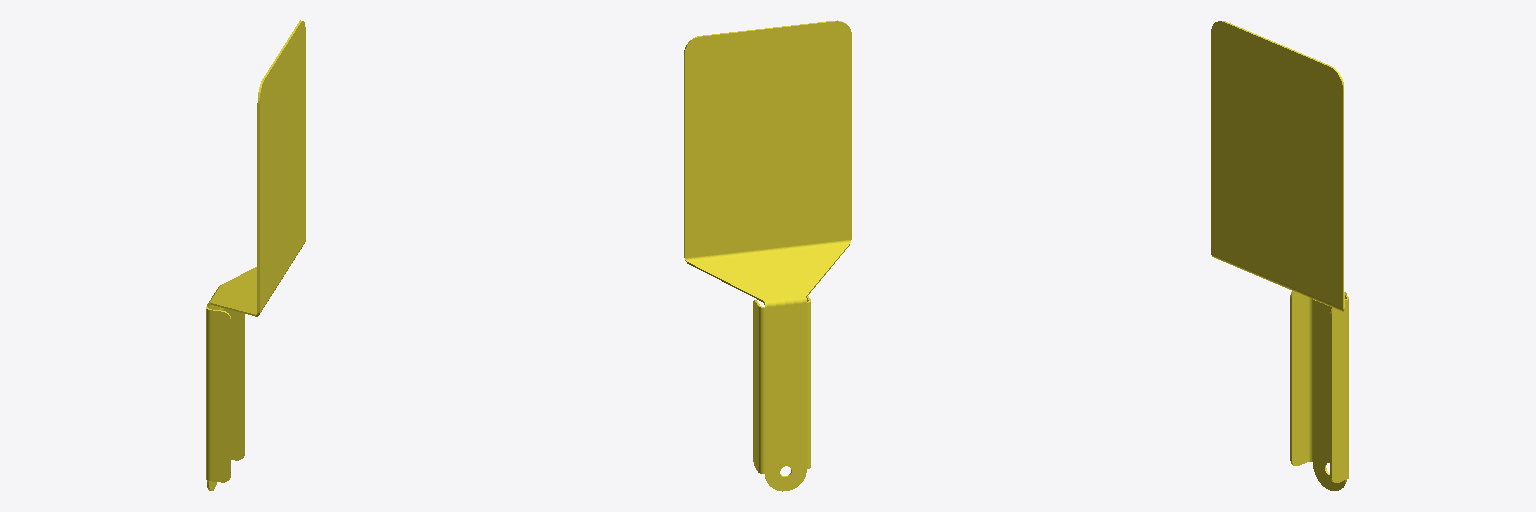
URDF robot description (panda):
<?xml version="1.0" ?>
<robot name="panda" xmlns:xacro="http://www.ros.org/wiki/xacro">
  <link name="panda_link0">
    <visual>
      <geometry>
        <mesh filename="package://franka_description/meshes/visual/link0.dae"/>
      </geometry>
    </visual>
    <collision>
      <geometry>
        <mesh filename="package://franka_description/meshes/collision/link0.obj"/>
      </geometry>
    </collision>
  </link>
  <link name="panda_link1">
    <visual>
      <geometry>
        <mesh filename="package://franka_description/meshes/visual/link1.dae"/>
      </geometry>
    </visual>
    <collision>
      <geometry>
        <mesh filename="package://franka_description/meshes/collision/link1.obj"/>
      </geometry>
    </collision>
    <inertial>
        <origin xyz="0.00387 0.00208 0.00000" rpy="0 0 0" />
        <mass value="4.97068" />
        <inertia ixx="0.70337" ixy="-0.00014" ixz="0.00677" iyy="0.70661" iyz="0.01917" izz="0.00912" />
    </inertial>
  </link>
  <joint name="panda_joint1" type="revolute">
    <safety_controller k_position="100.0" k_velocity="40.0" soft_lower_limit="-2.8973" soft_upper_limit="2.8973"/>
    <origin rpy="0 0 0" xyz="0 0 0.333"/>
    <parent link="panda_link0"/>
    <child link="panda_link1"/>
    <axis xyz="0 0 1"/>
    <dynamics damping="10.0"/>
    <limit effort="87" lower="-2.9671" upper="2.9671" velocity="2.1750"/>
  </joint>
  <link name="panda_link2">
    <visual>
      <geometry>
        <mesh filename="package://franka_description/meshes/visual/link2.dae"/>
      </geometry>
    </visual>
    <collision>
      <geometry>
        <mesh filename="package://franka_description/meshes/collision/link2.obj"/>
      </geometry>
    </collision>
    <inertial>
        <origin xyz="-0.00314 -0.02872 0.00350" rpy="0 0 0" />
        <mass value="0.64693" />
        <inertia ixx="0.00796" ixy="-0.00392" ixz="0.01025" iyy="0.02811" iyz="0.00070" izz="0.02599" />
    </inertial>
  </link>
  <joint name="panda_joint2" type="revolute">
    <safety_controller k_position="100.0" k_velocity="40.0" soft_lower_limit="-1.7628" soft_upper_limit="1.7628"/>
    <origin rpy="-1.57079632679 0 0" xyz="0 0 0"/>
    <parent link="panda_link1"/>
    <child link="panda_link2"/>
    <axis xyz="0 0 1"/>
    <dynamics damping="10.0"/>
    <limit effort="87" lower="-1.8326" upper="1.8326" velocity="2.1750"/>
  </joint>
  <link name="panda_link3">
    <visual>
      <geometry>
        <mesh filename="package://franka_description/meshes/visual/link3.dae"/>
      </geometry>
    </visual>
    <collision>
      <geometry>
        <mesh filename="package://franka_description/meshes/collision/link3.obj"/>
      </geometry>
    </collision>
    <inertial>
        <origin xyz="0.02752 0.03925 -0.06650" rpy="0 0 0" />
        <mass value="3.22860" />
        <inertia ixx="0.03724" ixy="-0.00476" ixz="-0.01140" iyy="0.03615" iyz="-0.01281" izz="0.01083" />
    </inertial>
  </link>
  <joint name="panda_joint3" type="revolute">
    <safety_controller k_position="100.0" k_velocity="40.0" soft_lower_limit="-2.8973" soft_upper_limit="2.8973"/>
    <origin rpy="1.57079632679 0 0" xyz="0 -0.316 0"/>
    <parent link="panda_link2"/>
    <child link="panda_link3"/>
    <axis xyz="0 0 1"/>
    <dynamics damping="10.0"/>
    <limit effort="87" lower="-2.9671" upper="2.9671" velocity="2.1750"/>
  </joint>
  <link name="panda_link4">
    <visual>
      <geometry>
        <mesh filename="package://franka_description/meshes/visual/link4.dae"/>
      </geometry>
    </visual>
    <collision>
      <geometry>
        <mesh filename="package://franka_description/meshes/collision/link4.obj"/>
      </geometry>
    </collision>
    <inertial>
        <origin xyz="-0.05317 0.10442 0.02745" rpy="0 0 0" />
        <mass value="3.58789" />
        <inertia ixx="0.02585" ixy="0.00780" ixz="-0.00133" iyy="0.01955" iyz="0.00864" izz="0.02832" />
    </inertial>
  </link>
  <joint name="panda_joint4" type="revolute">
    <safety_controller k_position="100.0" k_velocity="40.0" soft_lower_limit="-3.0718" soft_upper_limit="-0.0698"/>
    <origin rpy="1.57079632679 0 0" xyz="0.0825 0 0"/>
    <parent link="panda_link3"/>
    <child link="panda_link4"/>
    <axis xyz="0 0 1"/>
    <!--
    <dynamics damping="10.0"/>
    <limit effort="87" lower="-3.1416" upper="0.0" velocity="2.1750"/>
    something is weird with this joint limit config
    <dynamics damping="10.0"/>
    <limit effort="87" lower="-0.01" upper="0.01" velocity="2.1750"/>
    -->
    <dynamics damping="10.0"/>
    <limit effort="87" lower="-3.0" upper="0.087" velocity="2.1750"/> 
  </joint>
  <link name="panda_link5">
    <visual>
      <geometry>
        <mesh filename="package://franka_description/meshes/visual/link5.dae"/>
      </geometry>
    </visual>
    <collision>
      <geometry>
        <mesh filename="package://franka_description/meshes/collision/link5.obj"/>
      </geometry>
    </collision>
    <inertial>
        <origin xyz="-0.01195 0.04106 -0.03844" rpy="0 0 0" />
        <mass value="1.22595" />
        <inertia ixx="0.03555" ixy="-0.00212" ixz="-0.00404" iyy="0.02947" iyz="0.00023" izz="0.00863" />
    </inertial>
  </link>
  <joint name="panda_joint5" type="revolute">
    <safety_controller k_position="100.0" k_velocity="40.0" soft_lower_limit="-2.8973" soft_upper_limit="2.8973"/>
    <origin rpy="-1.57079632679 0 0" xyz="-0.0825 0.384 0"/>
    <parent link="panda_link4"/>
    <child link="panda_link5"/>
    <axis xyz="0 0 1"/>
    <dynamics damping="10.0"/>
    <limit effort="12" lower="-2.9671" upper="2.9671" velocity="2.6100"/>
  </joint>
  <link name="panda_link6">
    <visual>
      <geometry>
        <mesh filename="package://franka_description/meshes/visual/link6.dae"/>
      </geometry>   
    </visual>
    <collision>
      <geometry>
        <mesh filename="package://franka_description/meshes/collision/link6.obj"/>
      </geometry>
    </collision>
    <inertial>
        <origin xyz="0.06015 -0.01412 -0.01052" rpy="0 0 0" />
        <mass value="1.66656" />
        <inertia ixx="0.00196" ixy="0.00011" ixz="-0.00116" iyy="0.00435" iyz="0.00034" izz="0.00543" />
    </inertial>
  </link>
  <joint name="panda_joint6" type="revolute">
    <safety_controller k_position="100.0" k_velocity="40.0" soft_lower_limit="-0.0175" soft_upper_limit="3.7525"/>
    <origin rpy="1.57079632679 0 0" xyz="0 0 0"/>
    <parent link="panda_link5"/>
    <child link="panda_link6"/>
    <axis xyz="0 0 1"/>
    <!--
    <dynamics damping="10.0"/>
    <limit effort="12" lower="-0.0873" upper="3.8223" velocity="2.6100"/>
    -->
    <dynamics damping="10.0"/>
    <limit effort="12" lower="-0.0873" upper="3.0" velocity="2.6100"/>
  </joint>
  <link name="panda_link7">
    <visual>
      <geometry>
        <mesh filename="package://franka_description/meshes/visual/link7.dae"/>
      </geometry>
    </visual>
    <collision>
      <geometry>
        <mesh filename="package://franka_description/meshes/collision/link7.obj"/>
      </geometry>
    </collision>
    <inertial>
        <origin xyz="0.01052 -0.00425 0.06160" rpy="0 0 0" />
        <mass value="0.73552" />
        <inertia ixx="0.01252" ixy="-0.00043" ixz="-0.00120" iyy="0.01003" iyz="-0.00074" izz="0.00481" />
    </inertial>
  </link>
  <joint name="panda_joint7" type="revolute">
    <safety_controller k_position="100.0" k_velocity="40.0" soft_lower_limit="-2.8973" soft_upper_limit="2.8973"/>
    <origin rpy="1.57079632679 0 0" xyz="0.088 0 0"/>
    <parent link="panda_link6"/>
    <child link="panda_link7"/>
    <axis xyz="0 0 1"/>
    <dynamics damping="10.0"/>
    <limit effort="12" lower="-2.9671" upper="2.9671" velocity="2.6100"/>
  </joint>
  <!--
  <link name="panda_link8"/>
  <joint name="panda_joint8" type="fixed">
    <origin rpy="0 0 0" xyz="0 0 0.107"/>
    <parent link="panda_link7"/>
    <child link="panda_link8"/>
    <axis xyz="0 0 0"/>
  </joint>
  Removing this joint seems to help with some stability things
  -->
  <joint name="panda_hand_joint" type="fixed">
    <!--
    <parent link="panda_link8"/>
    -->
    <parent link="panda_link7"/>
    <child link="panda_hand"/>
    <origin rpy="0 0 -0.785398163397" xyz="0 0 0.107"/>
    <!--
    <origin rpy="0 0 -0.785398163397" xyz="0 0 0"/>
    -->
  </joint>
  <link name="panda_hand">
    <visual>
      <geometry>
        <mesh filename="package://franka_description/meshes/visual/hand.dae"/>
      </geometry>
    </visual>
    <collision>
      <geometry>
        <mesh filename="package://franka_description/meshes/collision/hand.obj"/>
      </geometry>
    </collision>
    <inertial>
        <origin xyz="-0.01 0 0.03" rpy="0 0 0" />
        <mass value="0.73" />
        <inertia ixx="0.001" ixy="0" ixz="0" iyy="0.0025" iyz="0" izz="0.0017" />
    </inertial>
  </link>
  <link name="panda_leftfinger">
    <visual>
      <geometry>
        <mesh filename="package://franka_description/meshes/visual/finger.dae"/>
      </geometry>
    </visual>
    <collision>
      <geometry>
        <mesh filename="package://franka_description/meshes/collision/finger.obj"/>
      </geometry>
    </collision>
  </link>
  <link name="panda_rightfinger">
    <visual>
      <origin rpy="0 0 3.14159265359" xyz="0 0 0"/>
      <geometry>
        <mesh filename="package://franka_description/meshes/visual/finger.dae"/>
      </geometry>
    </visual>
    <collision>
      <origin rpy="0 0 3.14159265359" xyz="0 0 0"/>
      <geometry>
        <mesh filename="package://franka_description/meshes/collision/finger.obj"/>
      </geometry>
    </collision>
  </link>
  <link name="panda_spatula">
    <visual>
      <origin rpy="3.14159265359 0 0" xyz="0 0 0"/>
      <geometry>
        <mesh filename="../meshes/visual/spatula_visual.obj"/>
      </geometry>
    </visual>
    <collision>
      <origin rpy="-1.57079632679 0 0" xyz="0 0 0"/>
      <geometry>
        <mesh filename="../meshes/collision/spatula_collision.obj"/>
      </geometry>
    </collision>
  </link>
  <joint name="panda_finger_joint1" type="prismatic">
    <parent link="panda_hand"/>
    <child link="panda_leftfinger"/>
    <origin rpy="0.1 0.0 0" xyz="0 0.03 0.0584"/>
    <axis xyz="0 1 0"/>
    <dynamics damping="10.0"/>
    <limit effort="20" lower="0.0" upper="0.04" velocity="0.2"/>
  </joint>
  <joint name="panda_finger_joint2" type="prismatic">
    <parent link="panda_hand"/>
    <child link="panda_rightfinger"/>
    <origin rpy="-0.1 0 0" xyz="0 -0.03 0.0584"/>
    <axis xyz="0 -1 0"/>
    <dynamics damping="10.0"/>
    <limit effort="20" lower="0.0" upper="0.04" velocity="0.2"/>
    <mimic joint="panda_finger_joint1"/>
  </joint>
  <joint name="panda_spatula_joint" type="fixed">
    <parent link="panda_hand"/>
    <child link="panda_spatula"/>
    <origin rpy="0 0 0" xyz="0 -0.03 0.12"/>
  </joint>
</robot>

--- Facts derived from the render (not from the file) ---
Views: 3 orthographic renders of the robot side by side, from view 1: azimuth 30°, elevation 25°; view 2: azimuth 150°, elevation 25°; view 3: azimuth 270°, elevation 25°.
Robot: panda — 12 links, 11 joints (7 revolute, 2 prismatic, 2 fixed); root link panda_link0; default pose: all joints at 0.
Links seen in each view (by area): view 1: panda_spatula; view 2: panda_spatula; view 3: panda_spatula.
Link boxes in pixels (bbox=[...]): panda_spatula: bbox=[206, 20, 305, 490]; panda_spatula: bbox=[684, 20, 851, 491]; panda_spatula: bbox=[1211, 21, 1348, 490].
Bounding box of the posed robot: 0.0741 × 0.0741 × 0.2767 m (x, y, z).
Meshes: 11 distinct files referenced, 1 mesh visuals loaded (1 OBJ); not drawn: 11 (reference not matched to a file when rendering).